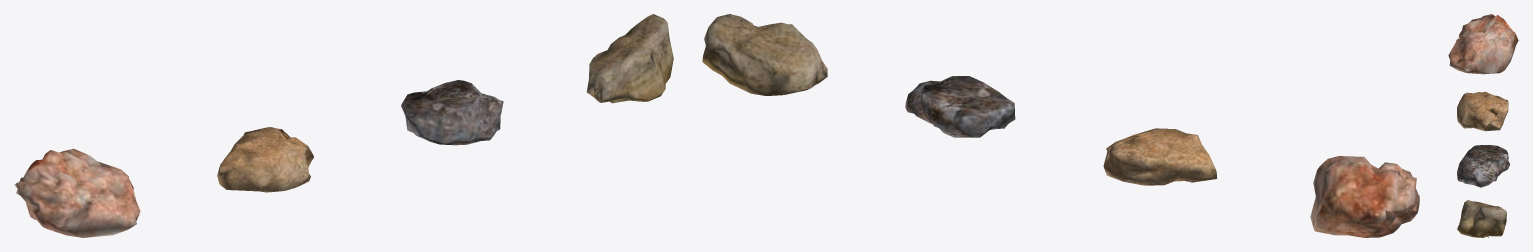
File: rock-desert-rubble.lite.e0bd1c0f.glb
3 views of the same model, side by side, from view 1: azimuth 30°, elevation 25°; view 2: azimuth 150°, elevation 25°; view 3: azimuth 270°, elevation 25° (orthographic). The views are drawn at different scales.
Parts seen in each view (by area): view 1: model; view 2: model; view 3: model.
Part boxes in pixels (<box>): model: <box>14,14,673,237</box>; model: <box>702,14,1419,237</box>; model: <box>1448,14,1518,237</box>.
Bounding box in the file's own units: 1.45 × 0.1502 × 0.2158.
1 material, 1 textured.
